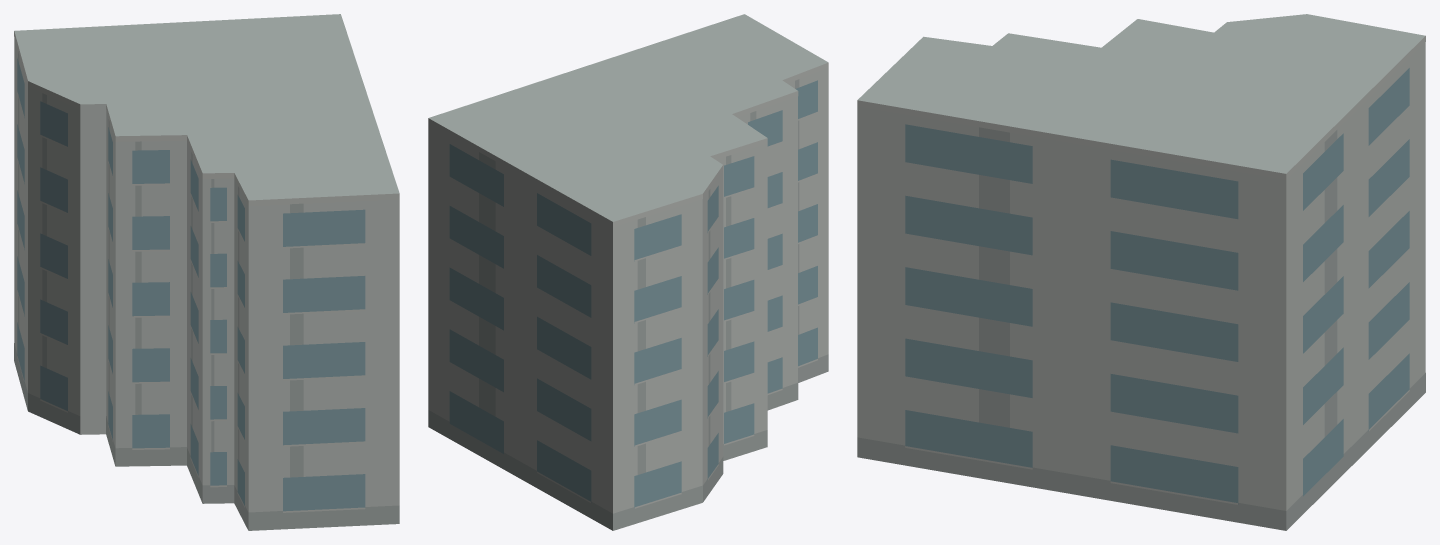
Rendered from survey-upis-32934098.glb.
The picture shows the model from 3 angles, left to right: view 1: azimuth 30°, elevation 25°; view 2: azimuth 150°, elevation 25°; view 3: azimuth 270°, elevation 25°; orthographic projection. The views are drawn at different scales.
Parts seen in each view (by area): view 1: survey-upis-32934098.tmp; view 2: survey-upis-32934098.tmp; view 3: survey-upis-32934098.tmp.
Part boxes in pixels (bbox=[...]): survey-upis-32934098.tmp: bbox=[14, 14, 399, 530]; survey-upis-32934098.tmp: bbox=[428, 14, 828, 530]; survey-upis-32934098.tmp: bbox=[857, 14, 1425, 530].
Size of the model in its own units: 13.6 by 14.15 by 20.43.
